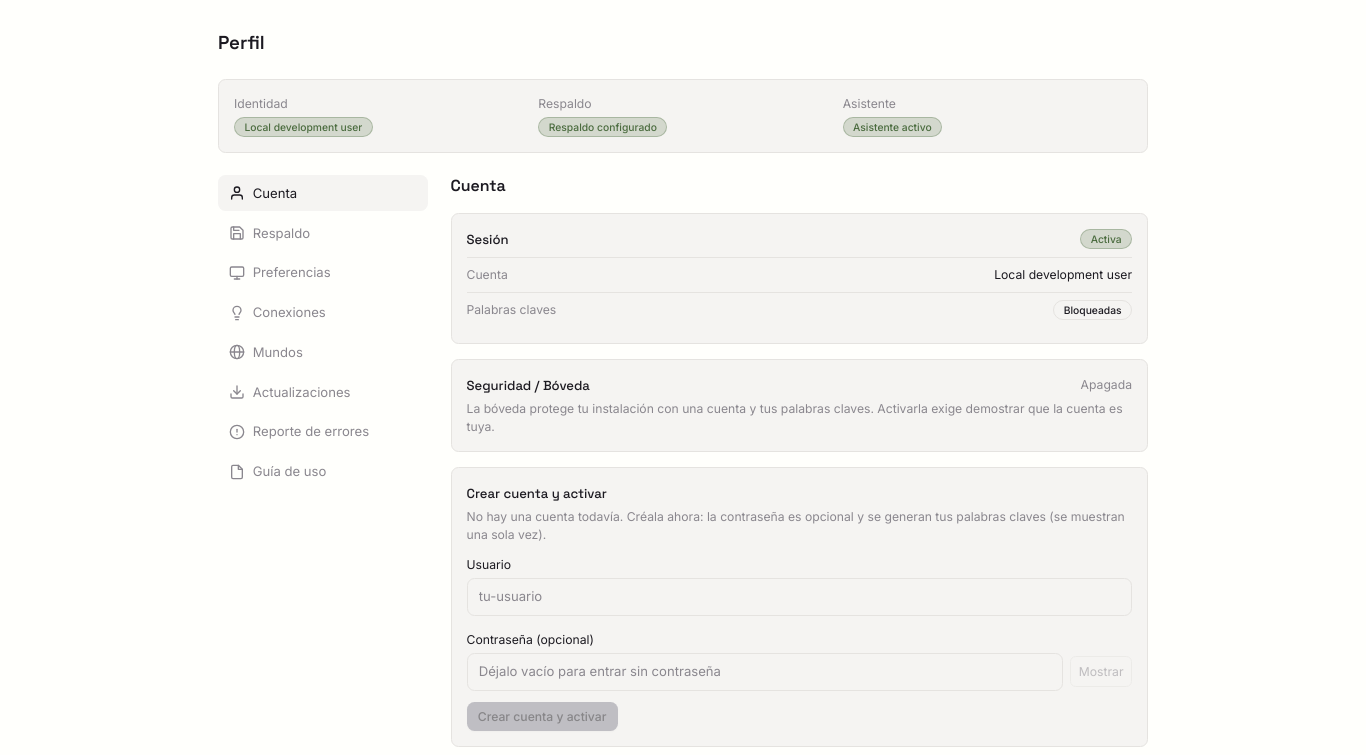
Test: ProfilePage emphasis rule (REQ-PIA-08) › renders the two connection rows with one visible body and no second tablist
Expected: the tab "Cuenta" is shown, [218,176,428,212]
Click the tab "Conexiones" at (323, 313), box [218,295,428,331]
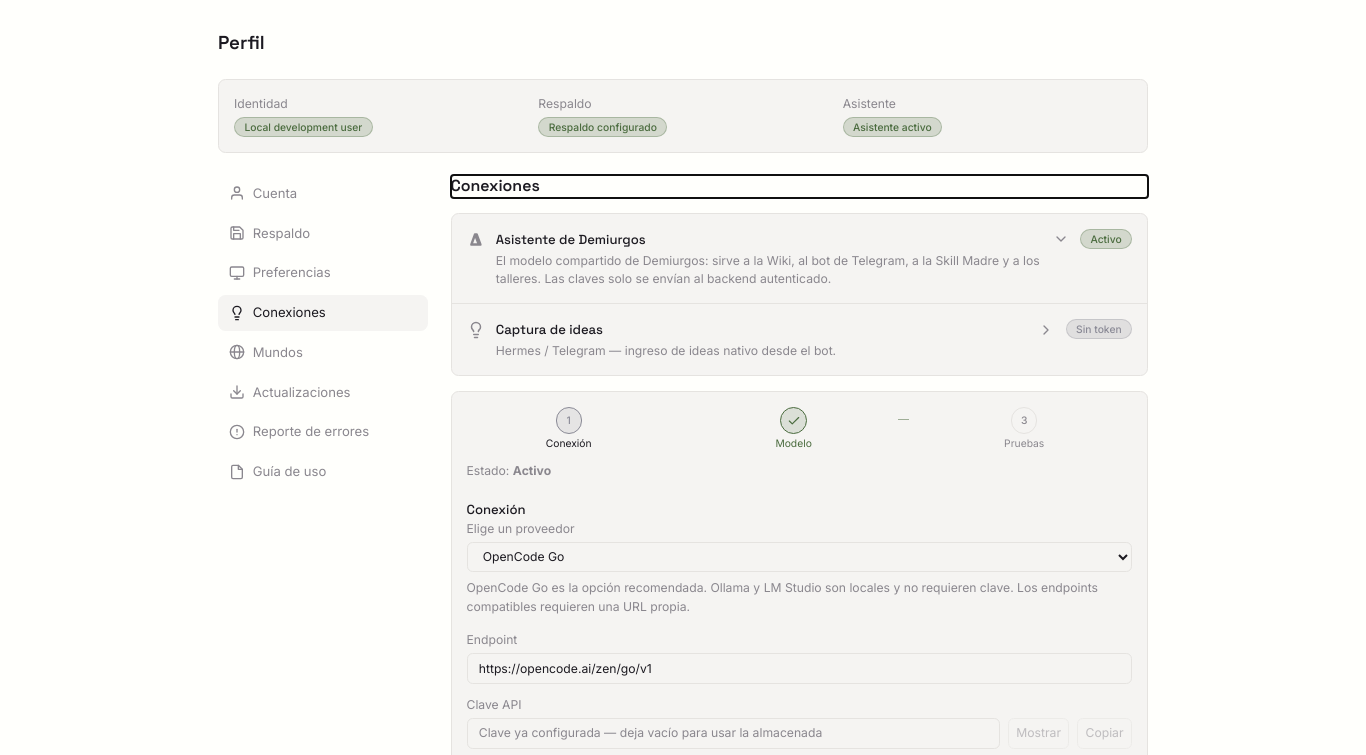
Expected: the headings read "Asistente de Demiurgos", "Captura de ideas", in this order
Click the button "Captura de ideas" at (549, 330), box [496,319,1054,340]
(page scrolled)
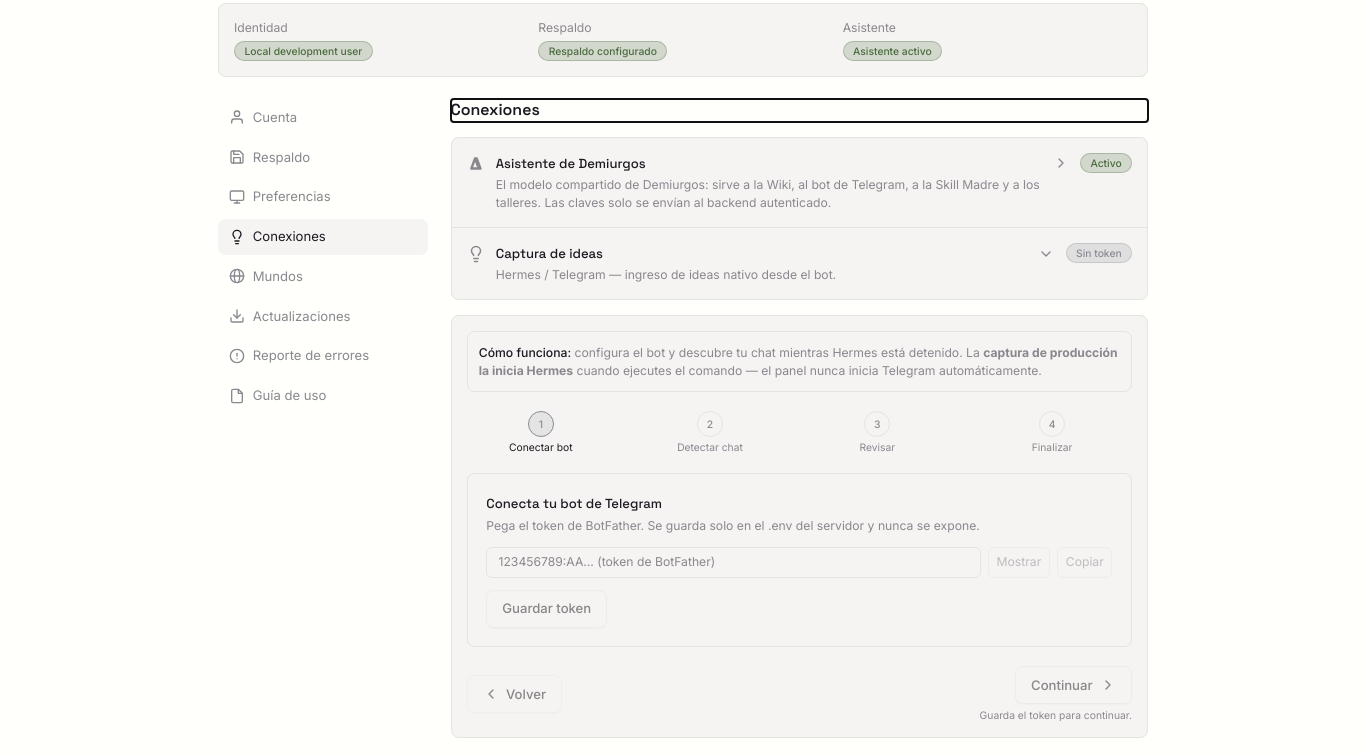
Expected: the button "Captura de ideas" is expanded, [496,243,1054,264]
